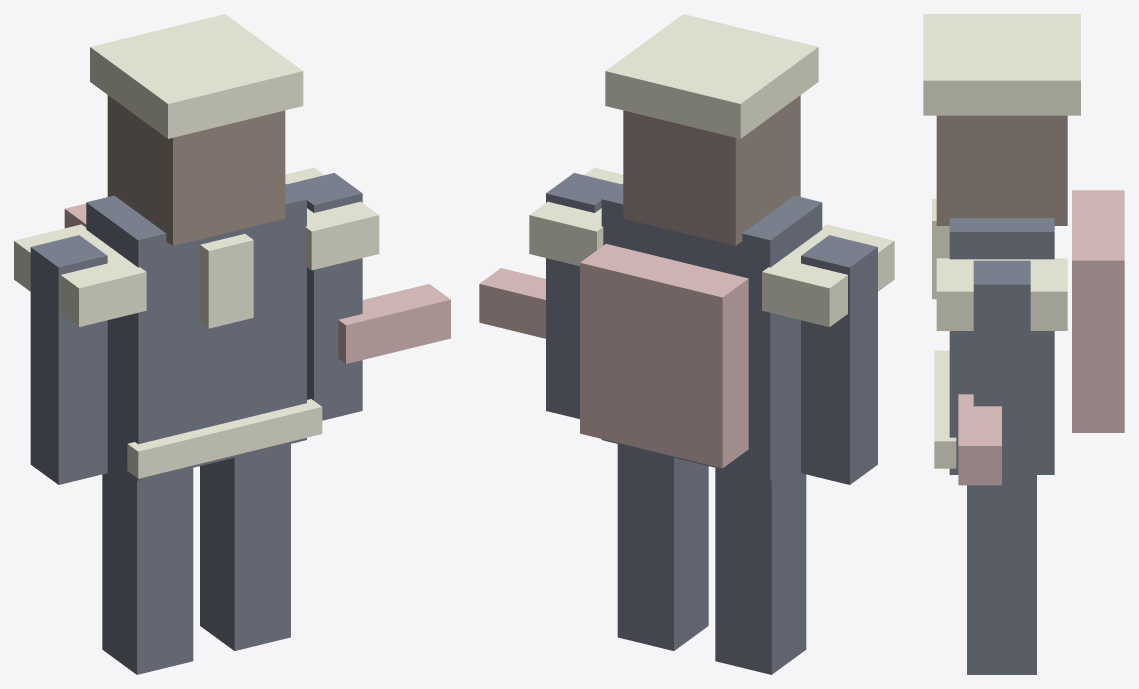
File: 16_soren_ironwake_watcher_at_breach.glb
3 views of the same model, side by side, from view 1: azimuth 30°, elevation 25°; view 2: azimuth 150°, elevation 25°; view 3: azimuth 270°, elevation 25° (orthographic).
Visible parts, largest first — view 1: Soren Ironwake, Watcher at Breach; view 2: Soren Ironwake, Watcher at Breach; view 3: Soren Ironwake, Watcher at Breach.
Boxes of the visible parts, box(x1,y1,x2,y2) form: Soren Ironwake, Watcher at Breach: box(14, 14, 450, 674); Soren Ironwake, Watcher at Breach: box(479, 14, 894, 674); Soren Ironwake, Watcher at Breach: box(923, 14, 1124, 674).
Bounding box in the file's own units: 1.01 × 1.47 × 0.4532.
